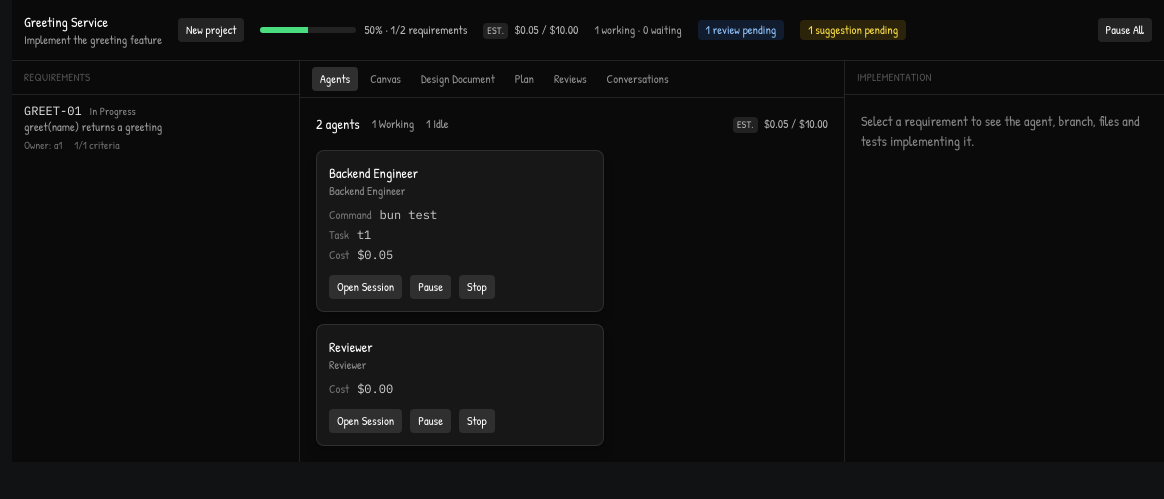
it: Control Room shell › the canvas tab renders and is wired to persist moves
This screenshot has width=1164, height=499.
expect the text with test id "project-name" reads "Greeting Service": met, box x1=24 y1=12 x2=108 y2=31
Click the button with test id "tab-canvas". click: coordinates (386, 79)
box: x1=362 y1=67 x2=409 y2=91
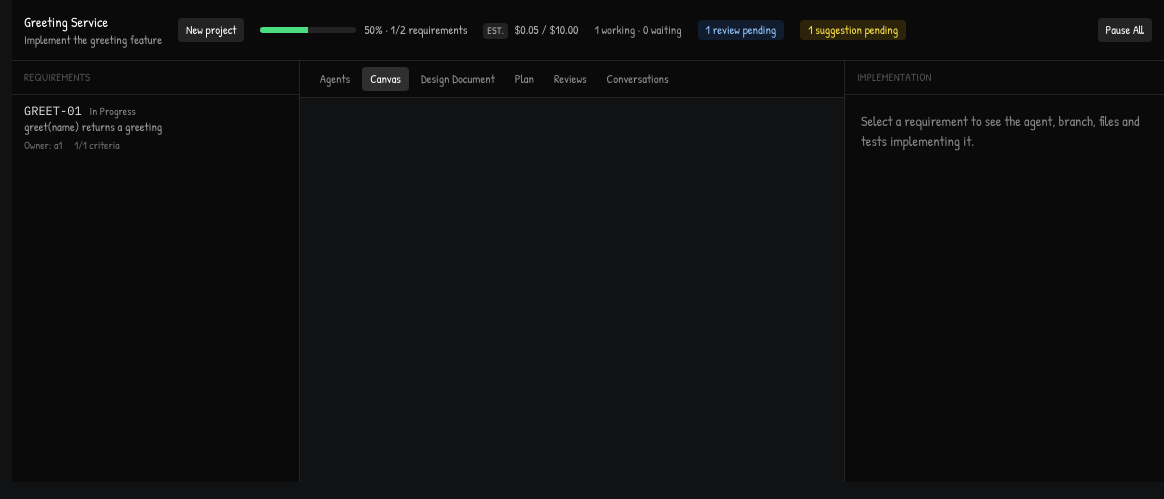
expect the element with test id "agent-canvas" is shown: met, box x1=300 y1=98 x2=844 y2=482
